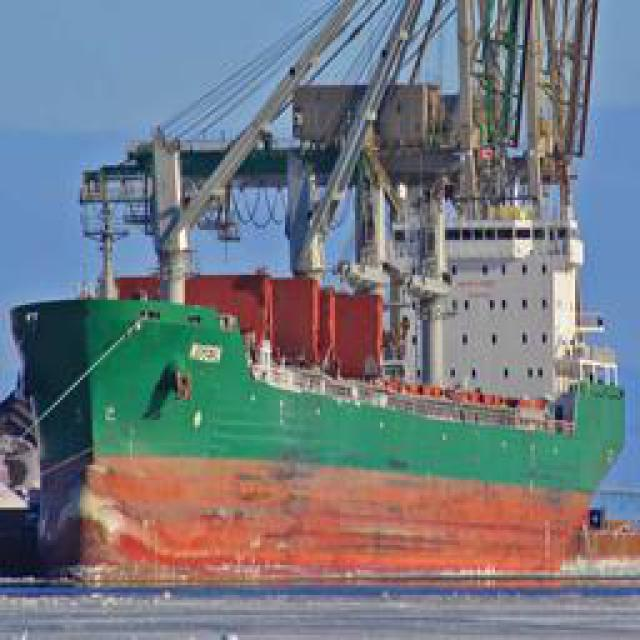Ship: (19, 35, 640, 606)
